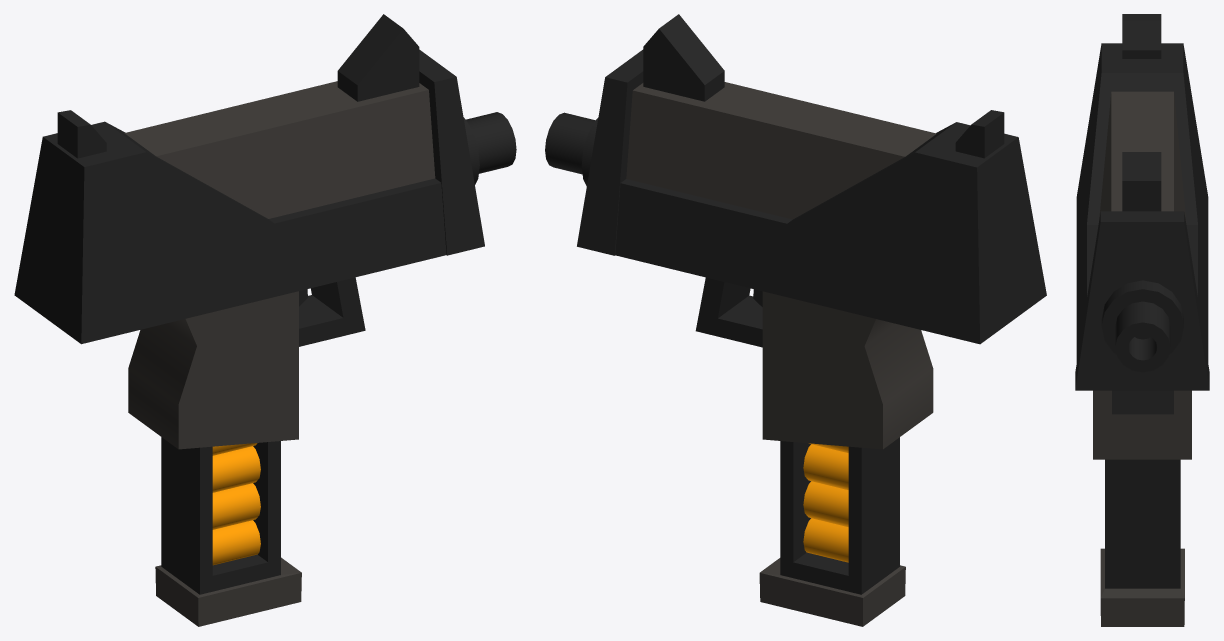
Rendered from Uzi.fbx.
3 views of the same model, side by side, from view 1: azimuth 30°, elevation 25°; view 2: azimuth 150°, elevation 25°; view 3: azimuth 270°, elevation 25° (orthographic).
Visible parts, largest first — view 1: Cube.011; view 2: Cube.011; view 3: Cube.011.
Boxes of the visible parts, x1,y1,x2,y2 form: Cube.011: (14, 14, 516, 626); Cube.011: (545, 14, 1046, 626); Cube.011: (1075, 14, 1209, 626).
Bounding box in the file's own units: 147 × 167 × 38.32.
